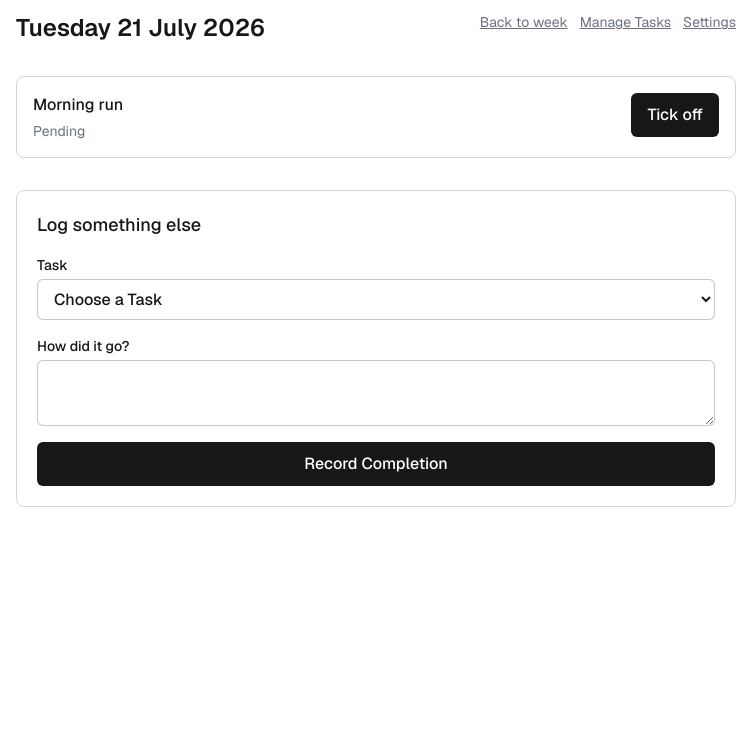
Test: Day page › surfaces a save error rather than swallowing it
Step 1. Click the button with aria-label "Tick off Morning run" → click(675, 115), box [632,93,719,137]
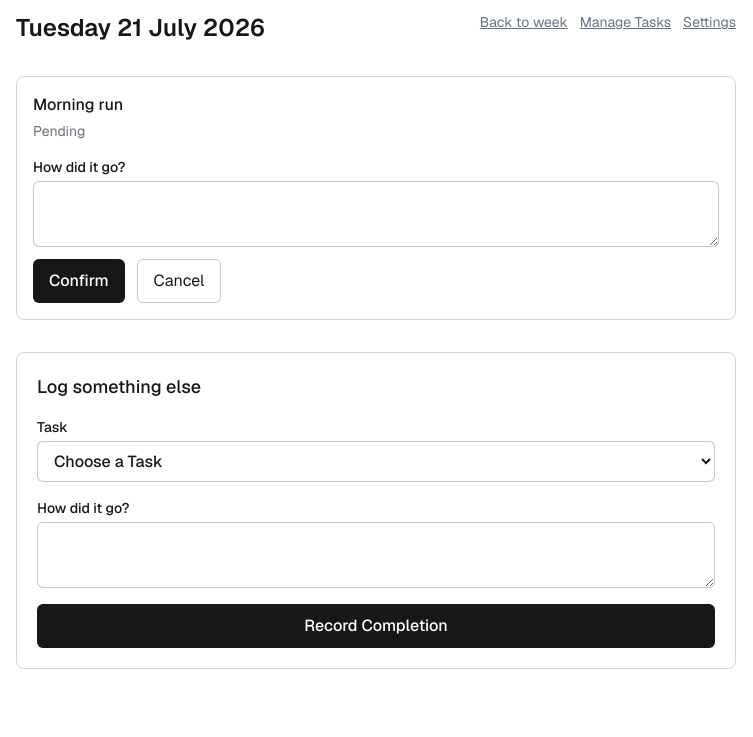
Step 2. Click the button with aria-label "Confirm Morning run" → click(79, 281), box [33,259,125,303]
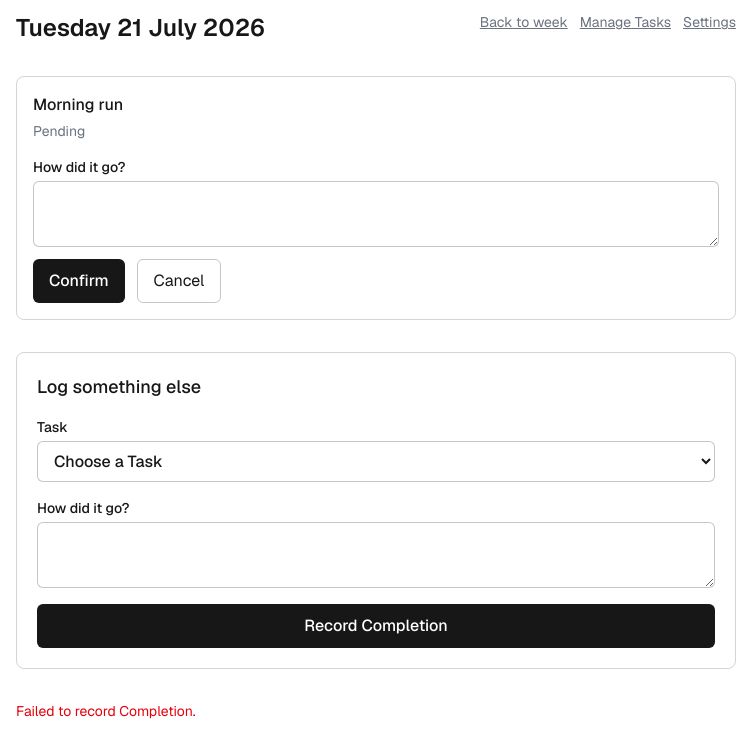
expect the message reads "Failed to record Completion.": met, box [16,702,196,720]
